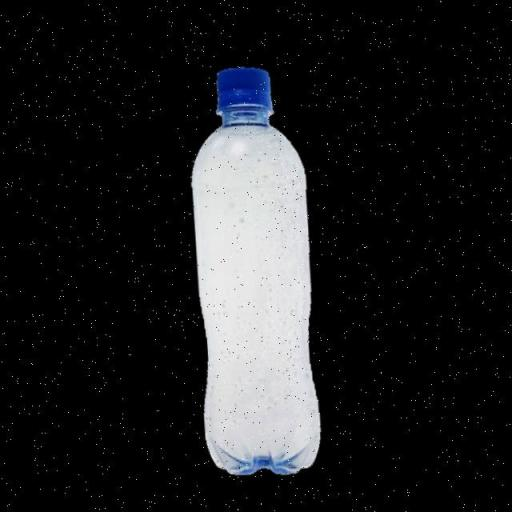plastic: (180, 54, 332, 486)
